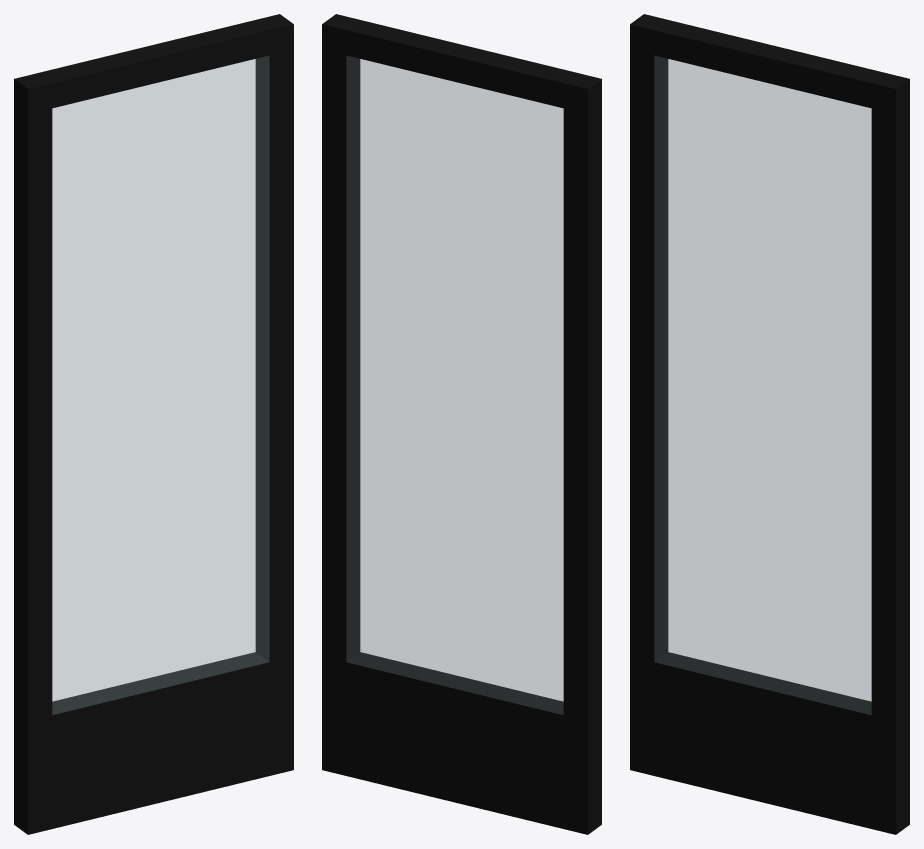
Rendered from double_decker_door_fwd.glb.
3 views of the same model, side by side, from view 1: azimuth 30°, elevation 25°; view 2: azimuth 150°, elevation 25°; view 3: azimuth 330°, elevation 25° (orthographic).
Parts seen in each view (by area): view 1: body:compound; view 2: body:compound; view 3: body:compound.
Boxes of the visible parts, x1,y1,x2,y2 form: body:compound: [14, 14, 293, 834]; body:compound: [322, 14, 601, 834]; body:compound: [630, 14, 909, 834].
Bounding box in the file's own units: 0.6875 × 1.84 × 0.0625.
